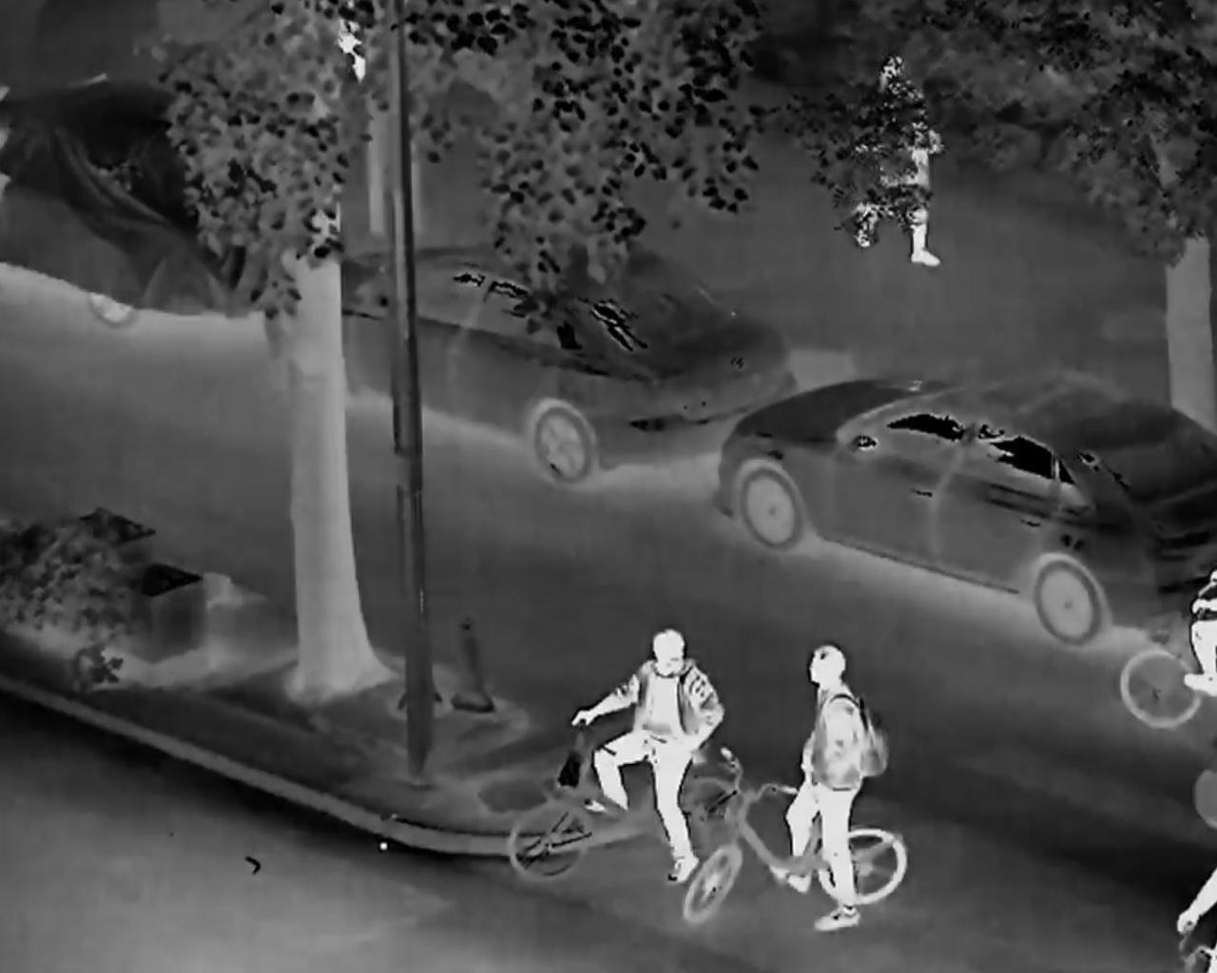person: (556, 630, 722, 911), (773, 628, 896, 942), (850, 43, 947, 282)
